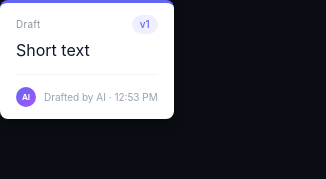
Test: Draft Card › shows action buttons on hover
The image size is (326, 179).
Hover over the element with test id "draft-card-content" at (87, 72), box [16,38,158,107]
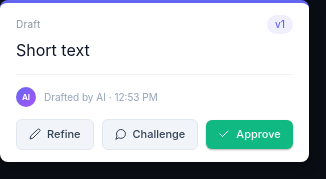
Result: the button "Refine" is shown at [16,119,94,150]
Result: the button "Challenge" is shown at [102,119,198,150]
Result: the button "Approve" is shown at [206,120,293,148]
